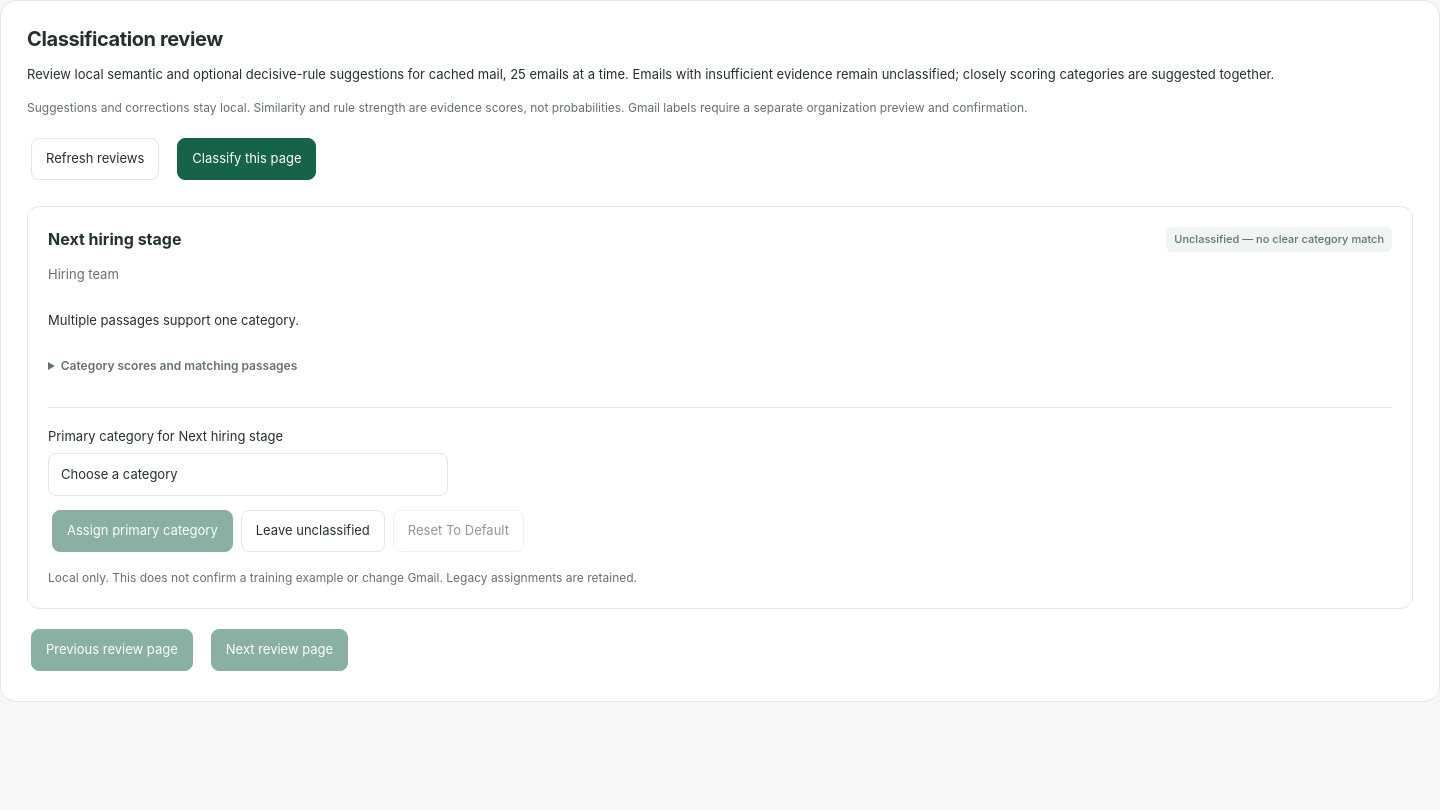
Test: disables Reset To Default without a label and clears a chosen category after reset
Expected: the button "Reset To Default" is disabled, [393,510,524,552]
Select "Personal" in the dropdown. click: (248, 475)
box: [48,453,448,496]
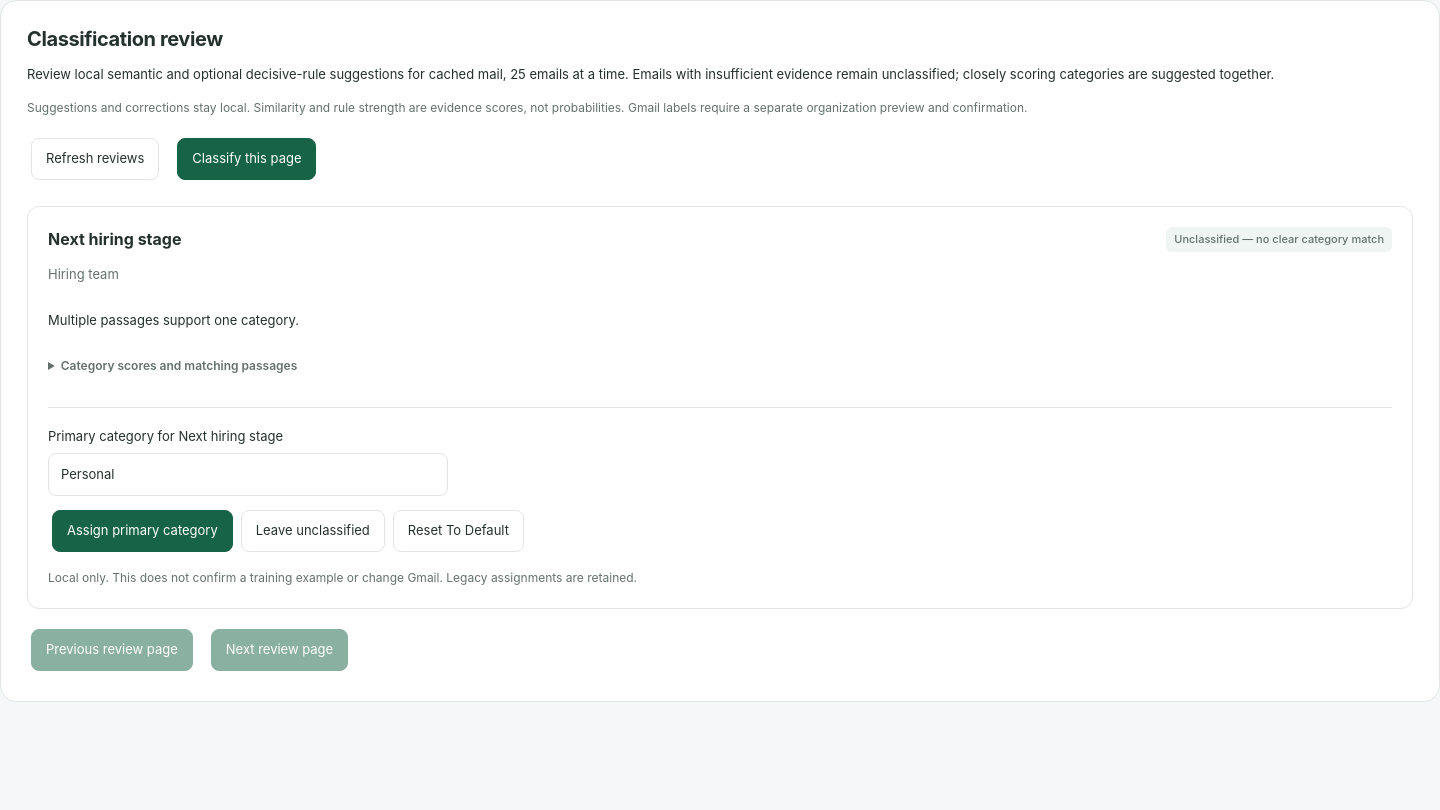
Now the button "Reset To Default" is enabled
Click the button "Reset To Default". click: (458, 531)
box: [393,510,524,552]
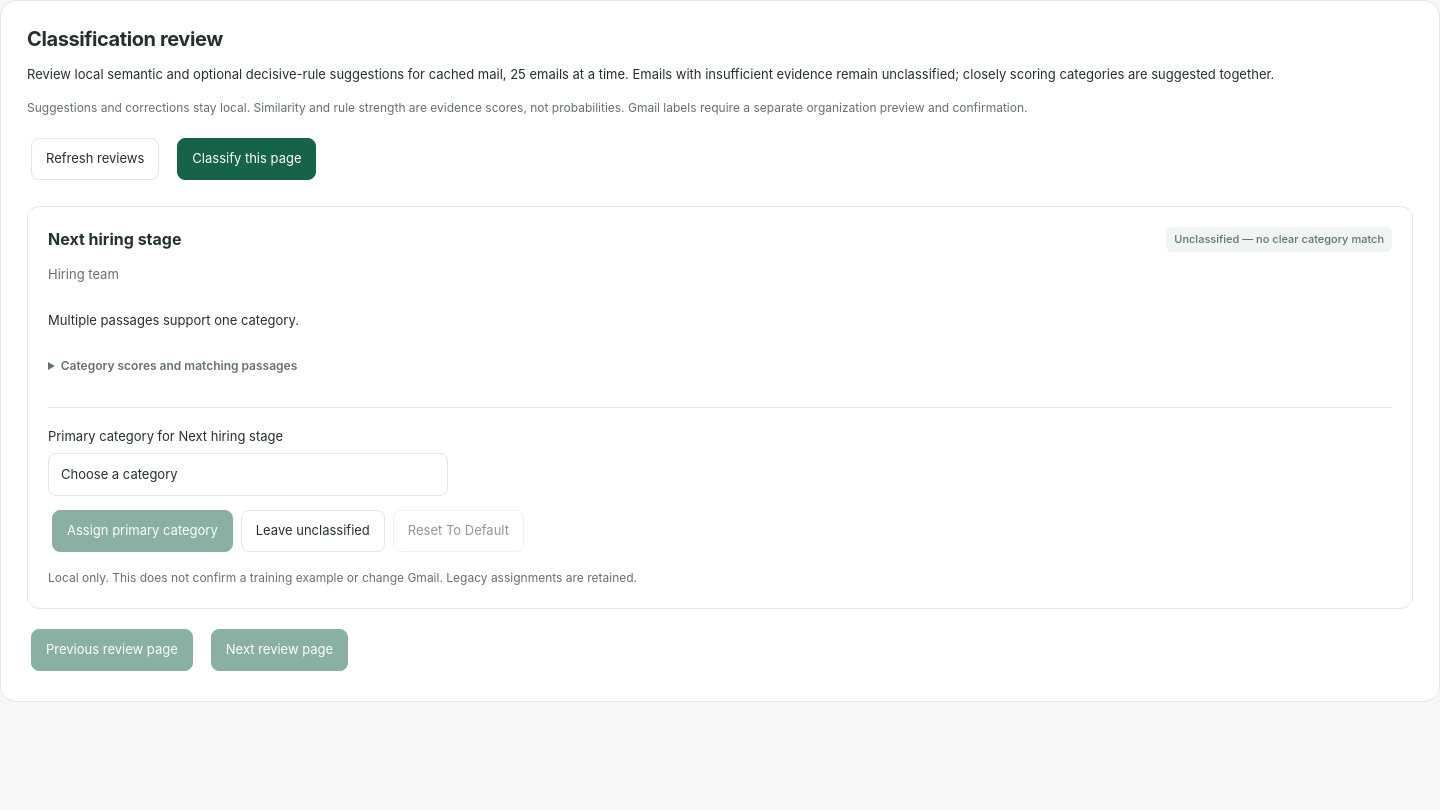
Now the button "Reset To Default" is disabled, box [393,510,524,552]
